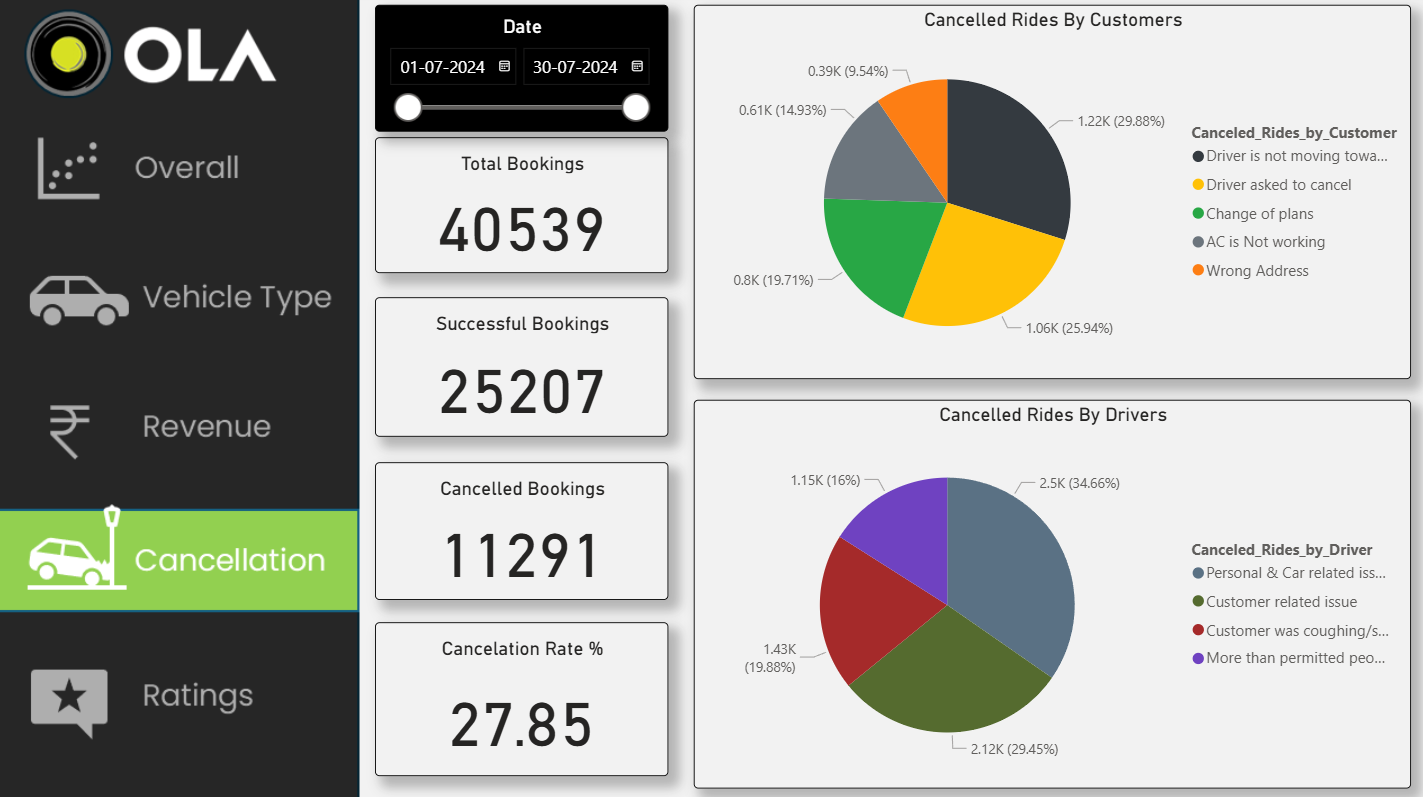

The page's visual inventory and layout, read from the dashboard file:
{"tool":"powerbi","page":{"name":"Cancellation","canvas":[1280,720],"ordinal":3},"visuals":[{"type":"actionButton","box":[0,108,322.7,90.8],"z":0},{"type":"actionButton","box":[0,222.1,322.7,90.8],"z":1000},{"type":"actionButton","box":[1.2,341.1,322.7,90.8],"z":2000},{"type":"actionButton","box":[0,579.1,322.7,90.8],"z":3000},{"type":"pieChart","title":"Cancelled Rides By Customers","fields":{"Category":["Bookings-40000-Rows.Canceled_Rides_by_Customer"],"Y":["CountNonNull(Bookings-40000-Rows.Canceled_Rides_by_Customer)"]},"box":[621.4,8.2,637.7,332.7],"z":4000},{"type":"pieChart","title":"Cancelled Rides By Drivers","fields":{"Category":["Bookings-40000-Rows.Canceled_Rides_by_Driver"],"Y":["CountNonNull(Bookings-40000-Rows.Canceled_Rides_by_Driver)"]},"box":[621.4,358.8,637.7,345.8],"z":5000},{"type":"slicer","title":"Date","fields":{"Values":["Bookings-40000-Rows.Date"]},"box":[337.6,8.2,261,112.5],"z":6000},{"type":"card","title":"Total Bookings","fields":{"Values":["CountNonNull(Bookings-40000-Rows.Booking_ID)"]},"box":[337.6,125.6,261,120.7],"z":7000},{"type":"card","title":"Successful Bookings","fields":{"Values":["CountNonNull(Bookings-40000-Rows.Booking_ID)"]},"box":[337.6,267.5,261,124],"z":8000},{"type":"card","title":"Cancelled Bookings","fields":{"Values":["CountNonNull(Bookings-40000-Rows.Booking_ID)"]},"box":[337.6,414.3,261,122.3],"z":9000},{"type":"card","title":"Cancelation Rate %","fields":{"Values":["Bookings-40000-Rows.Cancelled Percent"]},"box":[337.6,556.2,261,137],"z":10000}]}

Visuals, with their boxes in screenshot pixels (x1, y1, x2, y2), scaled from the page's 1280x720 canvas onto the 1423x797 screenshot:
actionButton: 0,120,359,220
actionButton: 0,246,359,346
actionButton: 1,378,360,478
actionButton: 0,641,359,742
"Cancelled Rides By Customers" pieChart: 691,9,1400,377
"Cancelled Rides By Drivers" pieChart: 691,397,1400,780
"Date" slicer: 375,9,665,134
"Total Bookings" card: 375,139,665,273
"Successful Bookings" card: 375,296,665,433
"Cancelled Bookings" card: 375,459,665,594
"Cancelation Rate %" card: 375,616,665,767
